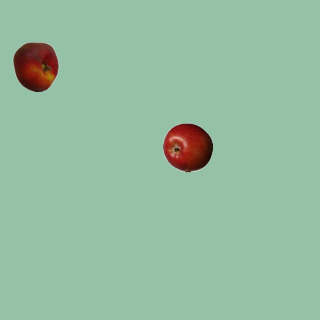Apple Braeburn: (162, 122, 212, 172)
Nectarine Flat: (10, 41, 60, 91)
